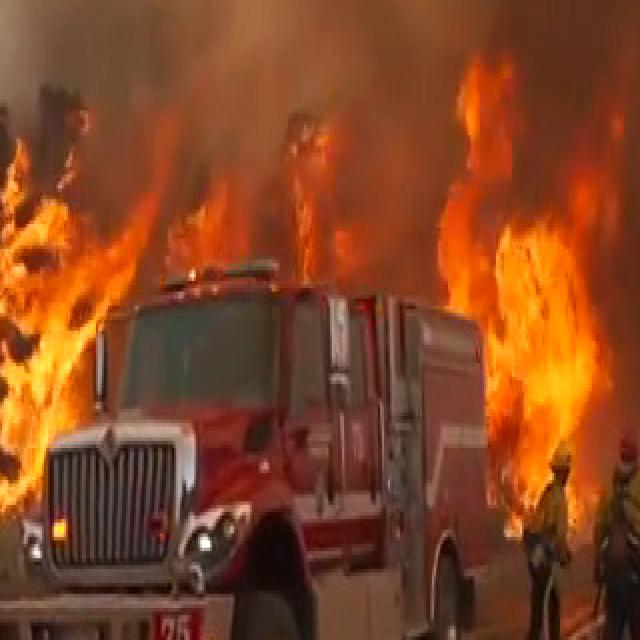fire: (442, 114, 622, 489), (0, 89, 126, 551), (210, 102, 395, 281)
